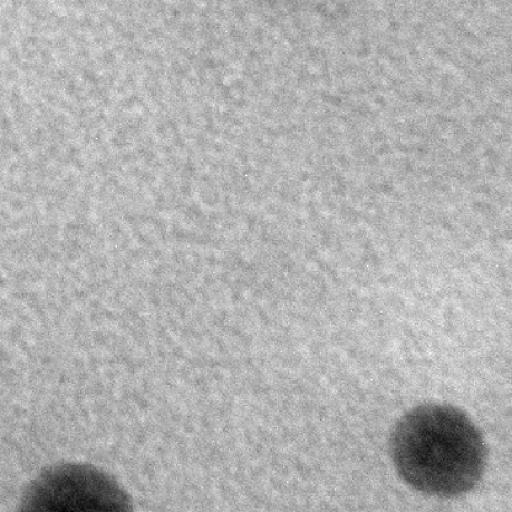Nanoparticles: (386, 396, 487, 500), (20, 459, 139, 512)
